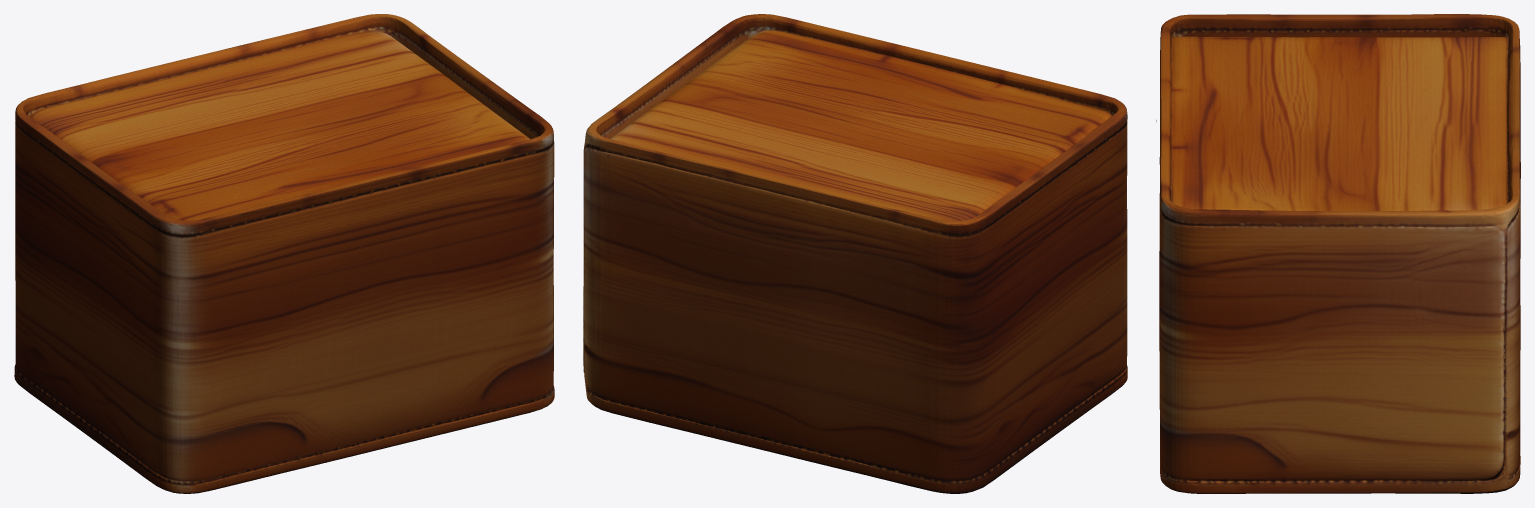
Rendered from wooden-wallet-3d.jpeg.glb.
3 renders of one model, left to right at view 1: azimuth 30°, elevation 25°; view 2: azimuth 150°, elevation 25°; view 3: azimuth 270°, elevation 25°, orthographic. The views are drawn at different scales.
Parts seen in each view (by area): view 1: world; view 2: world; view 3: world.
Part boxes in pixels (box(x1,y1,x2,y2)): world: box(14, 14, 554, 493); world: box(583, 14, 1127, 493); world: box(1156, 14, 1520, 493).
Bounding box in the file's own units: 1 × 0.6588 × 0.7684.
Materials: 1 (1 with a texture image).
